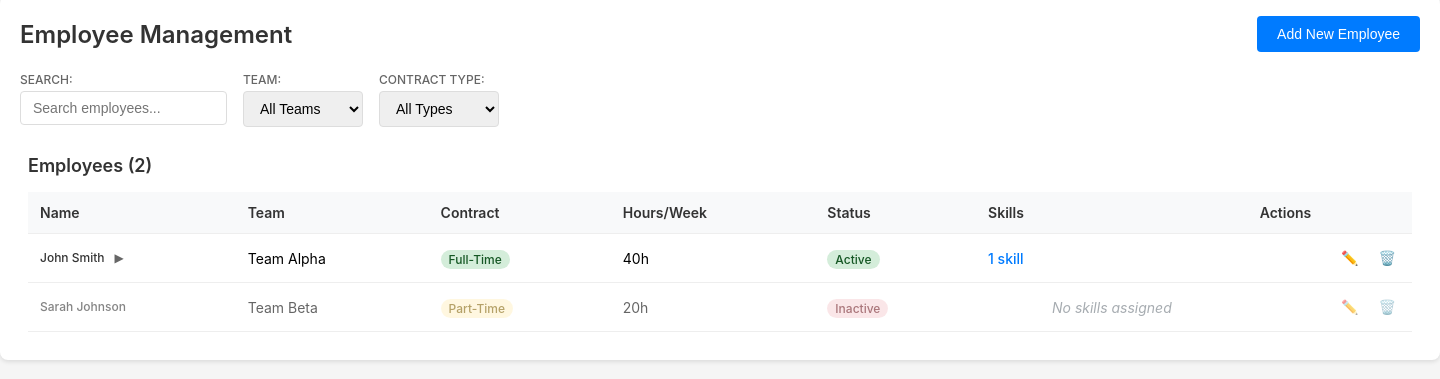
it: EmployeeManagement › filters employees by team
Select "Team Alpha" in the dropdown labelled "Team:" at (303, 109), box x1=243 y1=91 x2=363 y2=127
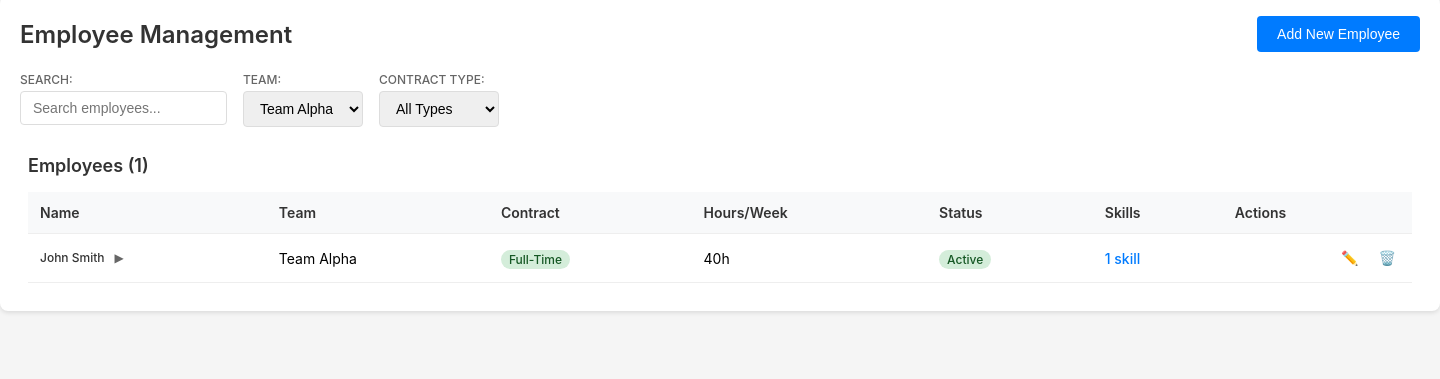
Expected: the text "John Smith" is shown, x1=40 y1=250 x2=104 y2=265
Expected: the text "Sarah Johnson" is gone
